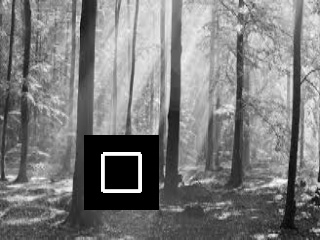square: (83, 135, 159, 210)
